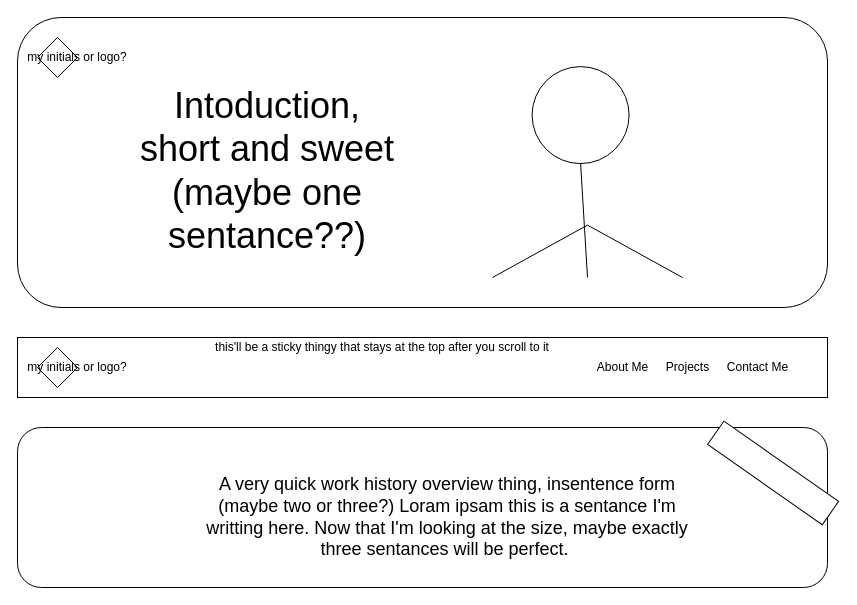
Image size: 857x605. Some labels were removed from this diagram. The centre of each missing label's shape, as x and y in pixels:
A banner that links to my projects on GitHub?: pixel 772 472
A photo of me??: pixel 580 115
